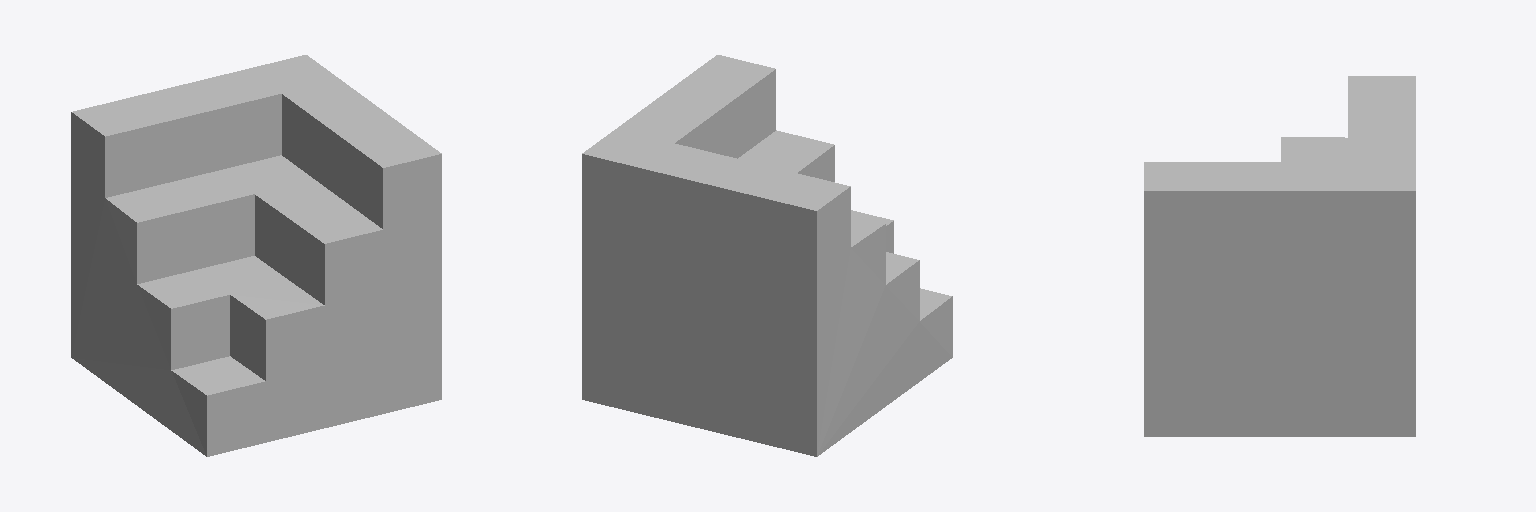
Rendered from StairsCornerInverted.obj.
3 views of the same model, side by side, from view 1: azimuth 30°, elevation 25°; view 2: azimuth 150°, elevation 25°; view 3: azimuth 270°, elevation 25° (orthographic).
Visible parts, largest first — view 1: Cube_Cube.004; view 2: Cube_Cube.004; view 3: Cube_Cube.004.
Part boxes in pixels (x1,y1,x2,y2): Cube_Cube.004: (71, 55, 441, 456); Cube_Cube.004: (582, 55, 952, 456); Cube_Cube.004: (1144, 76, 1415, 436).
Size of the model in its own units: 1.01 by 1 by 1.